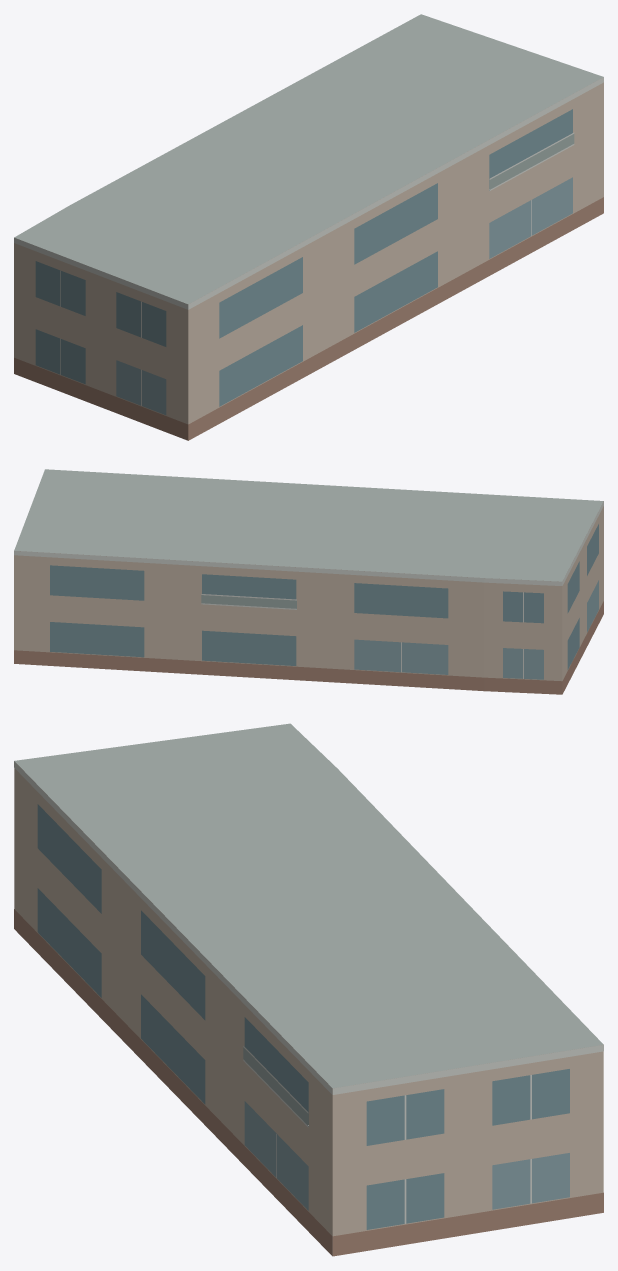
The model's file is survey-upis-32765905.glb.
3 renders of one model, top to bottom at view 1: azimuth 30°, elevation 25°; view 2: azimuth 150°, elevation 25°; view 3: azimuth 270°, elevation 25°, orthographic. The views are drawn at different scales.
Parts seen in each view (by area): view 1: survey-upis-32765905.tmp; view 2: survey-upis-32765905.tmp; view 3: survey-upis-32765905.tmp.
Part boxes in pixels (left/top/right/bottom): survey-upis-32765905.tmp: left=14, top=14, right=603, bottom=440; survey-upis-32765905.tmp: left=14, top=469, right=603, bottom=694; survey-upis-32765905.tmp: left=14, top=723, right=603, bottom=1256.
Bounding box in the file's own units: 28.42 × 6.1 × 19.41.
